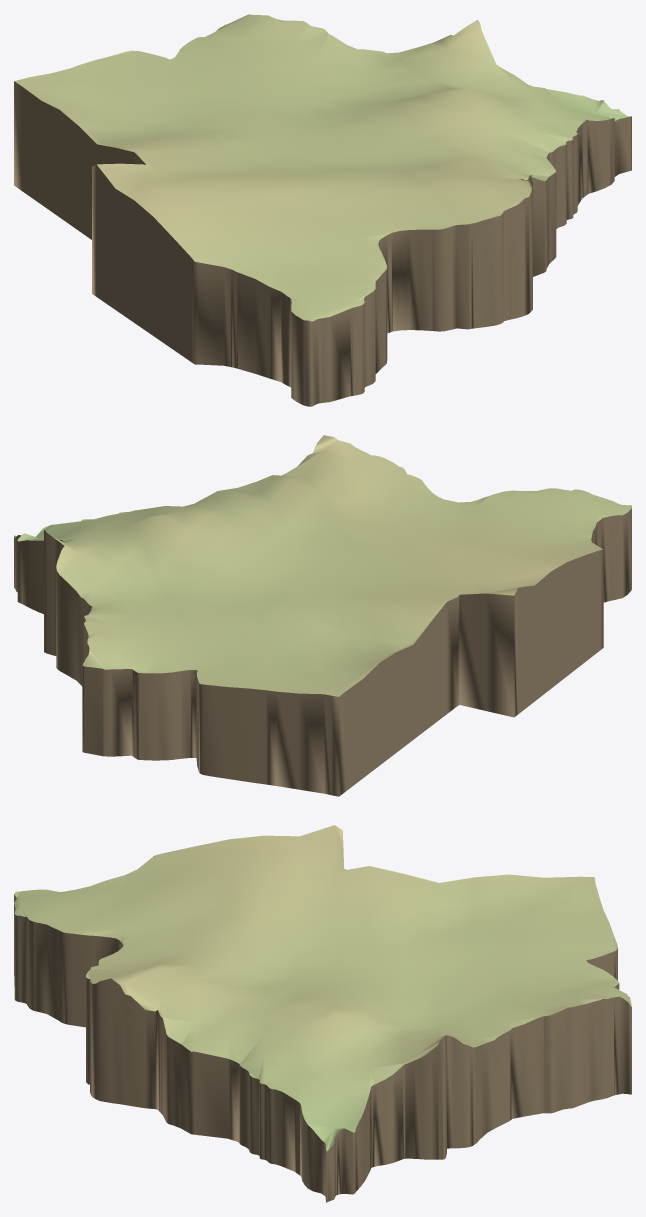
Rendered from BWA.glb.
3 renders of one model, top to bottom at view 1: azimuth 30°, elevation 25°; view 2: azimuth 150°, elevation 25°; view 3: azimuth 270°, elevation 25°, orthographic. The views are drawn at different scales.
Parts seen in each view (by area): view 1: BWA; view 2: BWA; view 3: BWA.
Boxes of the visible parts, <box> form: BWA: <box>14,14,631,406</box>; BWA: <box>14,435,631,796</box>; BWA: <box>14,825,631,1202</box>.
Bounding box in the file's own units: 1.42 × 0.338 × 1.48.
